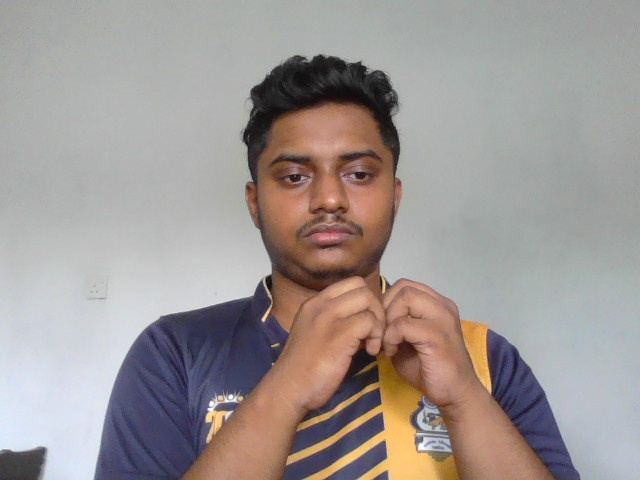More: (279, 277, 481, 412)
